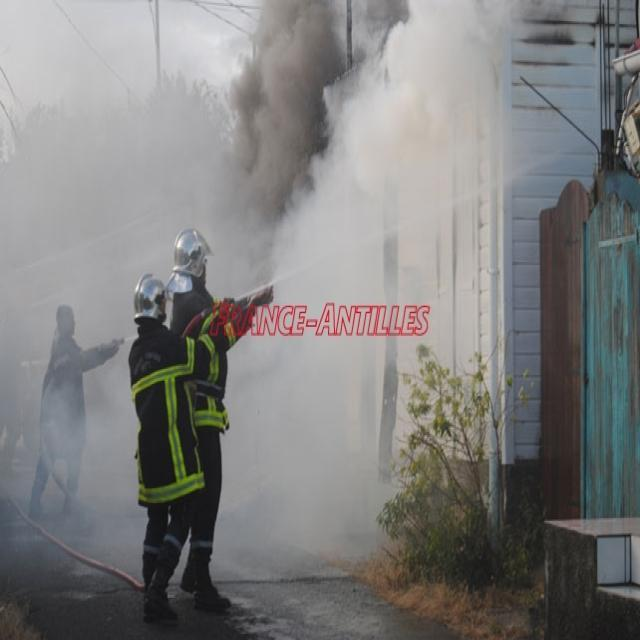Smoke: (230, 6, 330, 208)
